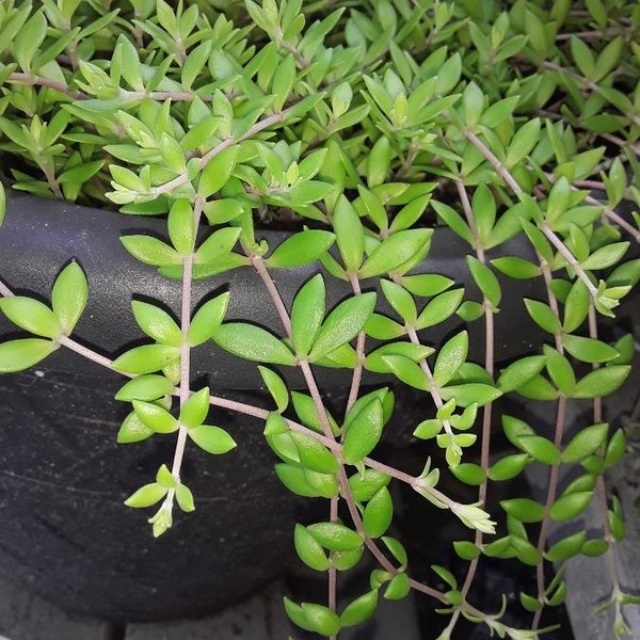obstacle: (34, 23, 610, 619)
